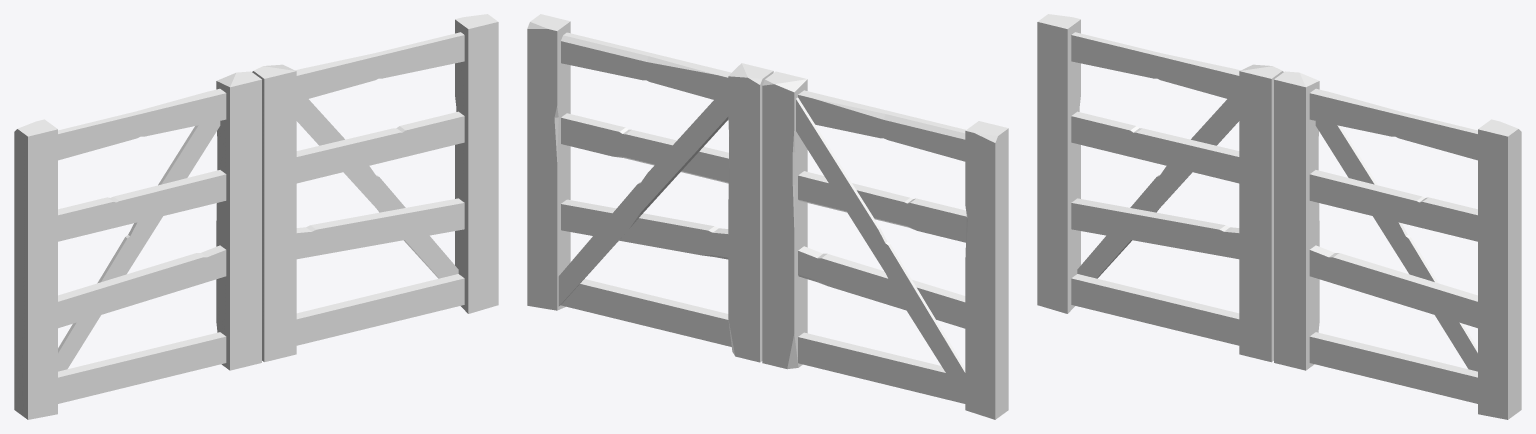
Rendered from Bld_01_Fence_Wood_Gate_Double_Worned_Handle_01.glb.
The picture shows the model from 3 angles, left to right: view 1: azimuth 30°, elevation 25°; view 2: azimuth 150°, elevation 25°; view 3: azimuth 330°, elevation 25°; orthographic projection.
Visible parts, largest first — view 1: Bld_01_Fence_Wood_Gate_Double_Left_Worned_01, Bld_01_Fence_Wood_Gate_Double_Right_Worned_01; view 2: Bld_01_Fence_Wood_Gate_Double_Left_Worned_01, Bld_01_Fence_Wood_Gate_Double_Right_Worned_01; view 3: Bld_01_Fence_Wood_Gate_Double_Right_Worned_01, Bld_01_Fence_Wood_Gate_Double_Left_Worned_01.
Part boxes in pixels (bbox=[...]): Bld_01_Fence_Wood_Gate_Double_Left_Worned_01: bbox=[14, 71, 261, 419]; Bld_01_Fence_Wood_Gate_Double_Right_Worned_01: bbox=[252, 14, 498, 362]; Bld_01_Fence_Wood_Gate_Double_Left_Worned_01: bbox=[762, 71, 1008, 419]; Bld_01_Fence_Wood_Gate_Double_Right_Worned_01: bbox=[527, 14, 773, 362]; Bld_01_Fence_Wood_Gate_Double_Right_Worned_01: bbox=[1274, 71, 1521, 419]; Bld_01_Fence_Wood_Gate_Double_Left_Worned_01: bbox=[1037, 14, 1283, 362].
Size of the model in its own units: 1.8 by 1.04 by 0.0898.
Materials: 1 (1 with a texture image).
